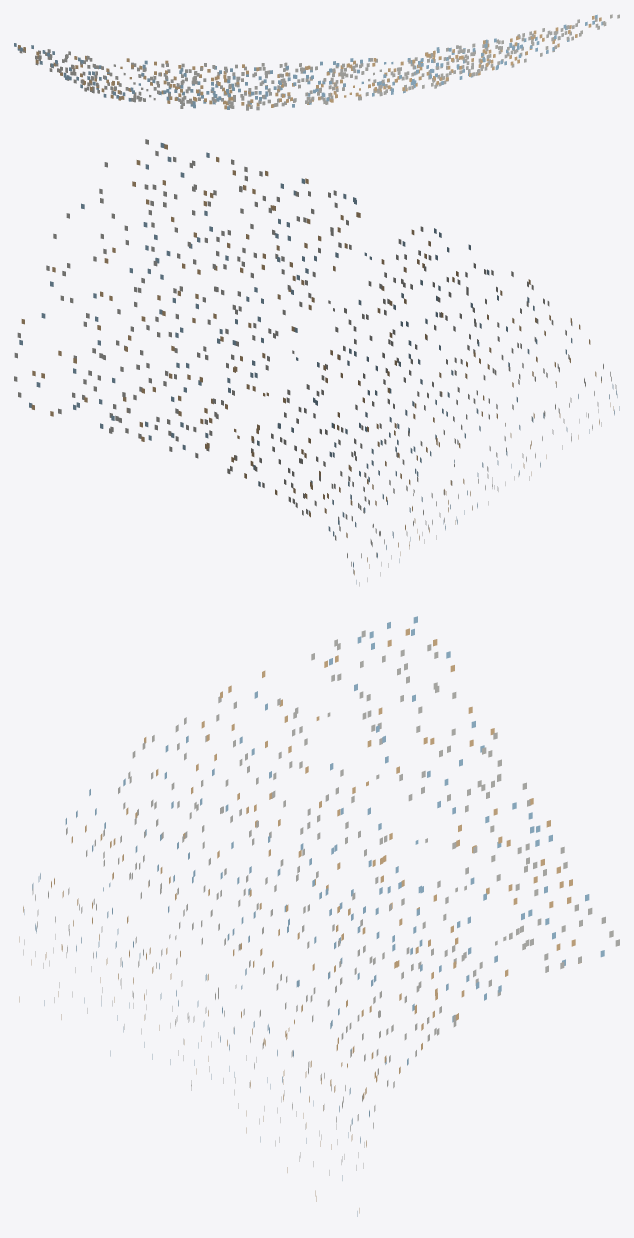
File: UpperPhones6.obj
3 renders of one model, top to bottom at view 1: azimuth 30°, elevation 25°; view 2: azimuth 150°, elevation 25°; view 3: azimuth 270°, elevation 25°, orthographic. The views are drawn at different scales.
Visible parts, largest first — view 1: UpperPhones6; view 2: UpperPhones6; view 3: UpperPhones6.
Boxes of the visible parts, left/top/right/bottom form: UpperPhones6: left=14, top=14, right=619, bottom=110; UpperPhones6: left=14, top=139, right=619, bottom=586; UpperPhones6: left=19, top=616, right=619, bottom=1216.
Bounding box in the file's own units: 65.73 × 16.37 × 40.09.
1 material, 1 textured.
